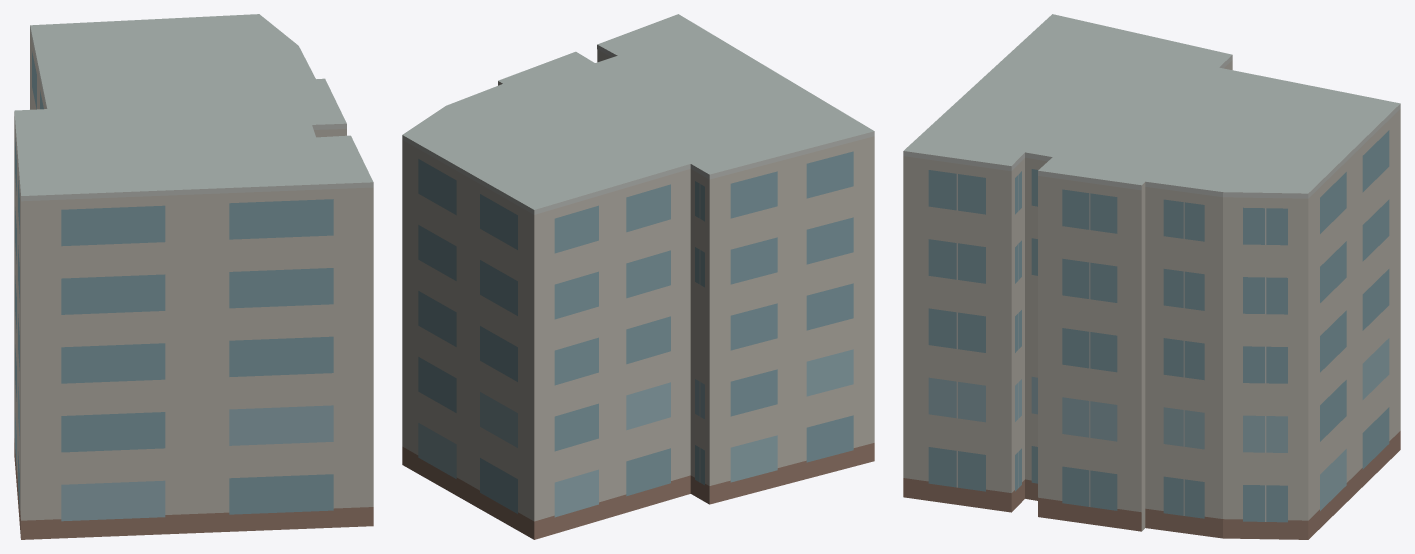
File: survey-upis-32721896.glb
The picture shows the model from 3 angles, left to right: view 1: azimuth 30°, elevation 25°; view 2: azimuth 150°, elevation 25°; view 3: azimuth 270°, elevation 25°; orthographic projection. The views are drawn at different scales.
Visible parts, largest first — view 1: survey-upis-32721896.tmp; view 2: survey-upis-32721896.tmp; view 3: survey-upis-32721896.tmp.
Boxes of the visible parts, x1=… form: survey-upis-32721896.tmp: x1=14, y1=14, x2=373, y2=539; survey-upis-32721896.tmp: x1=402, y1=14, x2=874, y2=539; survey-upis-32721896.tmp: x1=903, y1=14, x2=1400, y2=539.
Bounding box in the file's own units: 18.14 × 16.3 × 21.22.
